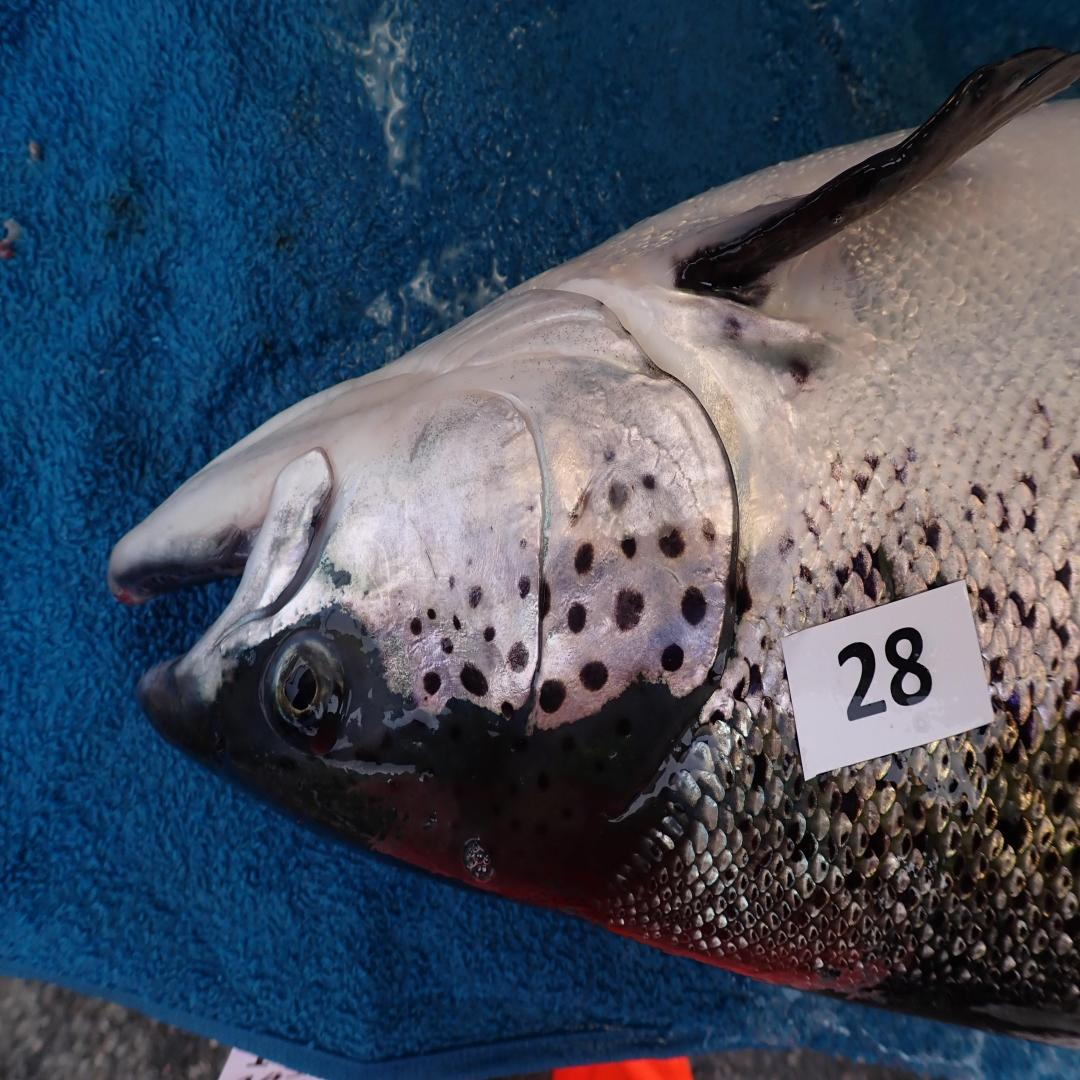spot: (616, 588, 643, 630), (681, 588, 707, 624), (460, 664, 487, 698), (580, 661, 608, 692), (540, 681, 565, 714), (658, 529, 686, 557), (571, 492, 592, 528), (508, 641, 529, 672), (574, 543, 595, 574), (608, 481, 629, 512), (660, 644, 683, 672), (567, 602, 586, 633), (540, 579, 551, 619), (620, 537, 637, 560), (424, 672, 441, 695), (468, 585, 483, 608), (702, 518, 715, 543), (409, 616, 422, 636), (502, 700, 515, 720), (603, 444, 616, 464), (641, 472, 656, 489), (441, 638, 454, 655), (519, 577, 529, 596), (483, 627, 496, 641), (449, 574, 456, 591), (428, 608, 437, 619), (519, 537, 527, 548), (454, 616, 460, 630), (526, 505, 535, 512), (467, 559, 472, 567)
